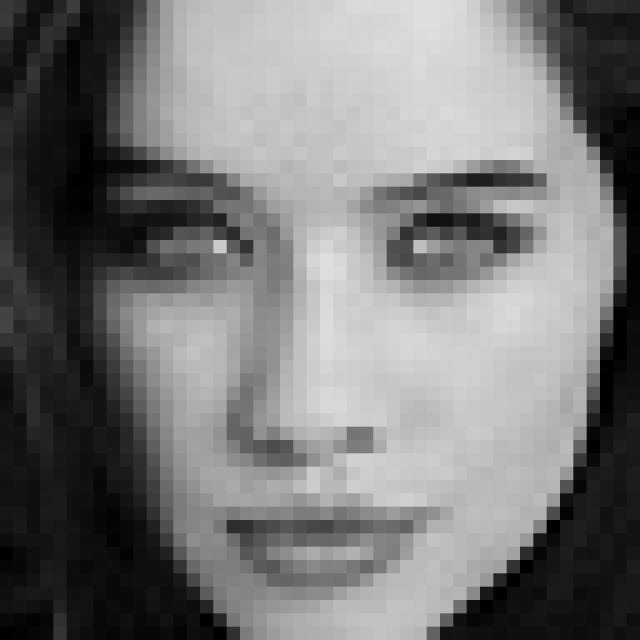neutral: (102, 143, 561, 596)
